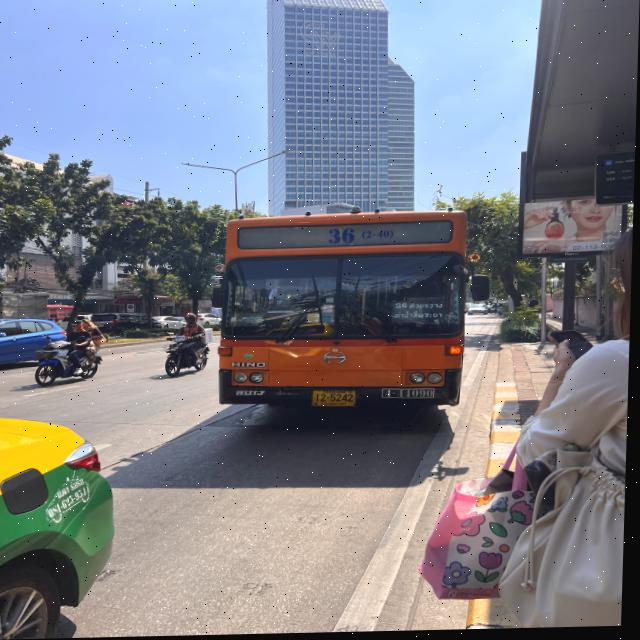BMTA-bus: (215, 212, 472, 418)
Bus-Line-Number: (317, 225, 406, 252)
Destination-Sign-Normal: (390, 300, 450, 328)
